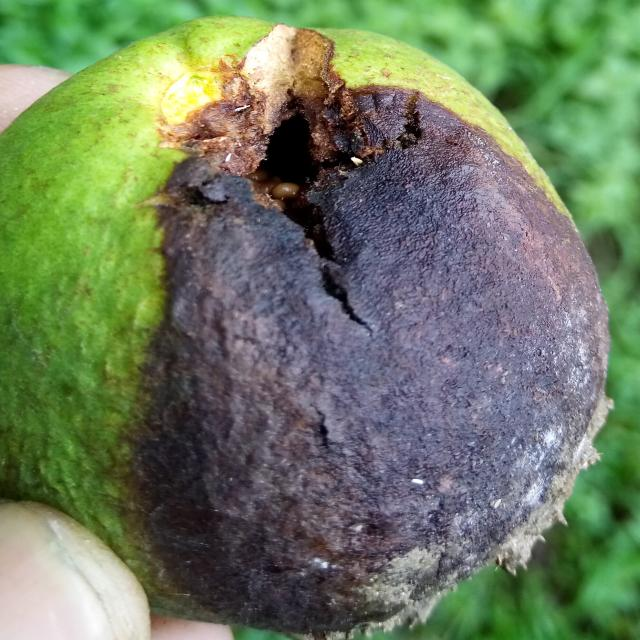Phytopthora: (1, 18, 608, 639)
